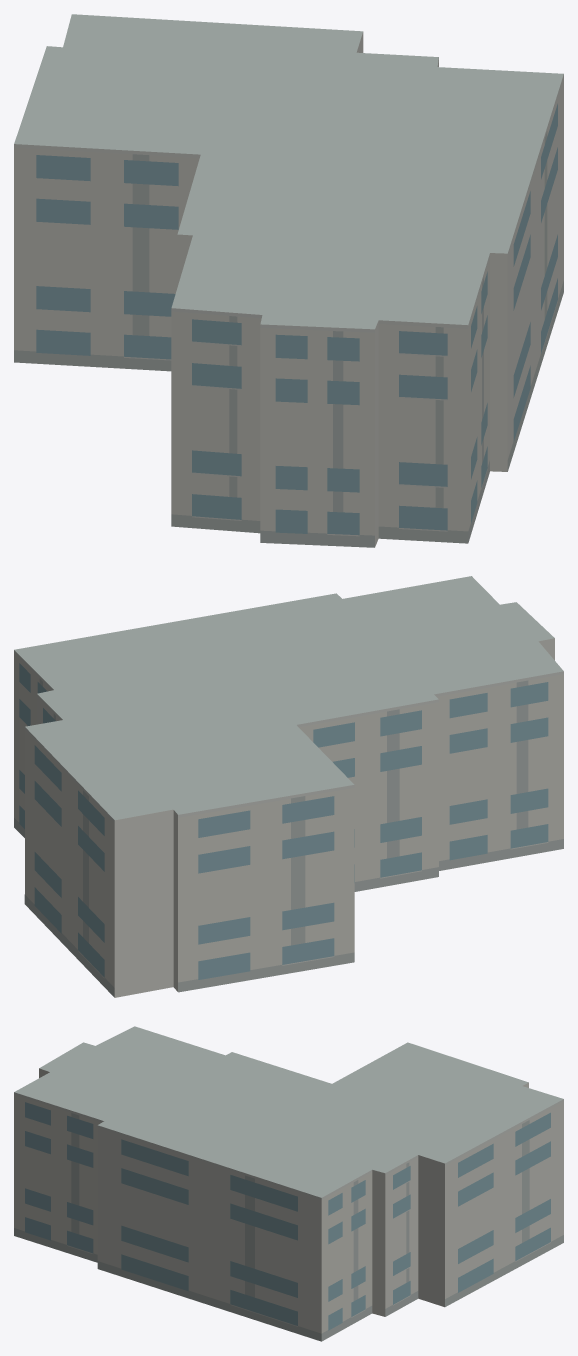
File: survey-upis-32696274.glb
3 renders of one model, top to bottom at view 1: azimuth 30°, elevation 25°; view 2: azimuth 150°, elevation 25°; view 3: azimuth 270°, elevation 25°, orthographic. The views are drawn at different scales.
Visible parts, largest first — view 1: survey-upis-32696274.tmp; view 2: survey-upis-32696274.tmp; view 3: survey-upis-32696274.tmp.
Boxes of the visible parts, x1,y1,x2,y2 form: survey-upis-32696274.tmp: [14, 14, 563, 547]; survey-upis-32696274.tmp: [14, 576, 563, 997]; survey-upis-32696274.tmp: [14, 1026, 563, 1341].
Size of the model in its own units: 39.06 by 15.25 by 52.88.
